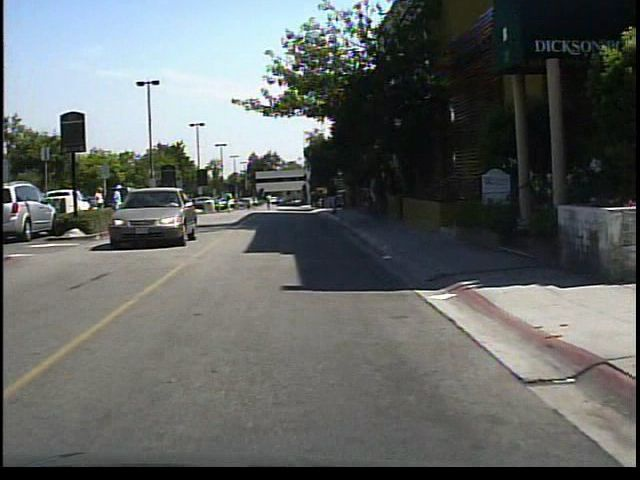person: (369, 164, 391, 223), (113, 180, 133, 229), (325, 172, 344, 218), (163, 177, 182, 222), (93, 184, 108, 226), (224, 188, 237, 215), (264, 192, 275, 213)
